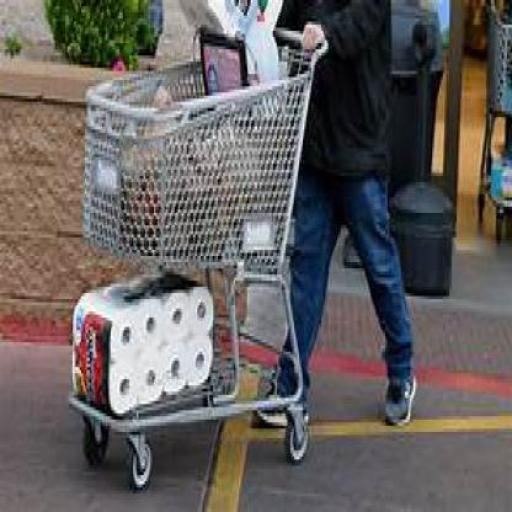shopping_cart: (68, 24, 327, 487)
